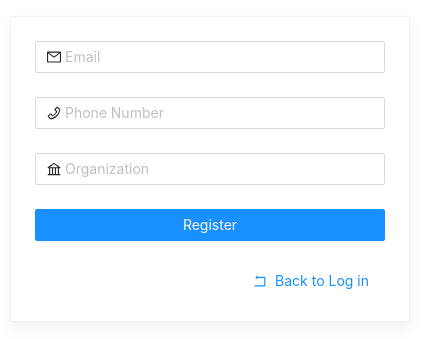
Test case: Register Form Test › should prevent blank input login
The width and height of the screenshot is (427, 339).
Click the button with test id "register".
click(210, 225)  # box 35,209 -> 385,241
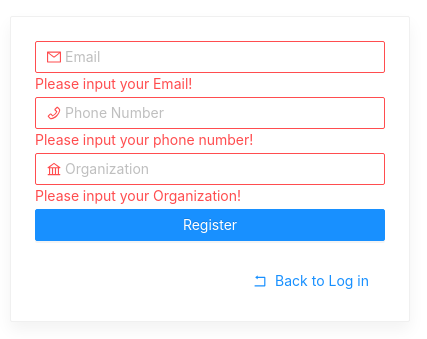
Expected: the message "Please input your Email!" is shown, 35,75 -> 192,92
